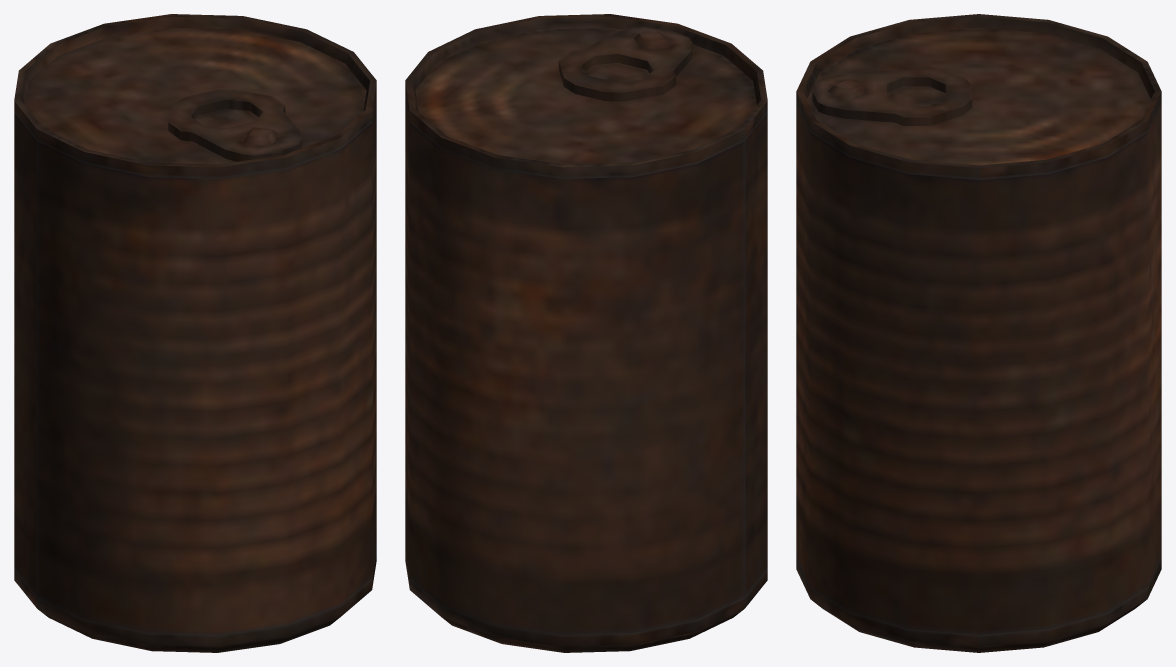
The model's file is canned_food_mp_5_rusty.obj.
The picture shows the model from 3 angles, left to right: view 1: azimuth 30°, elevation 25°; view 2: azimuth 150°, elevation 25°; view 3: azimuth 270°, elevation 25°; orthographic projection.
Visible parts, largest first — view 1: canned_food_mp_5_rusty; view 2: canned_food_mp_5_rusty; view 3: canned_food_mp_5_rusty.
Part boxes in pixels (x1,y1,x2,y2): canned_food_mp_5_rusty: [14, 14, 376, 652]; canned_food_mp_5_rusty: [405, 14, 767, 652]; canned_food_mp_5_rusty: [796, 14, 1161, 652].
Size of the model in its own units: 0.112 by 0.168 by 0.112.
